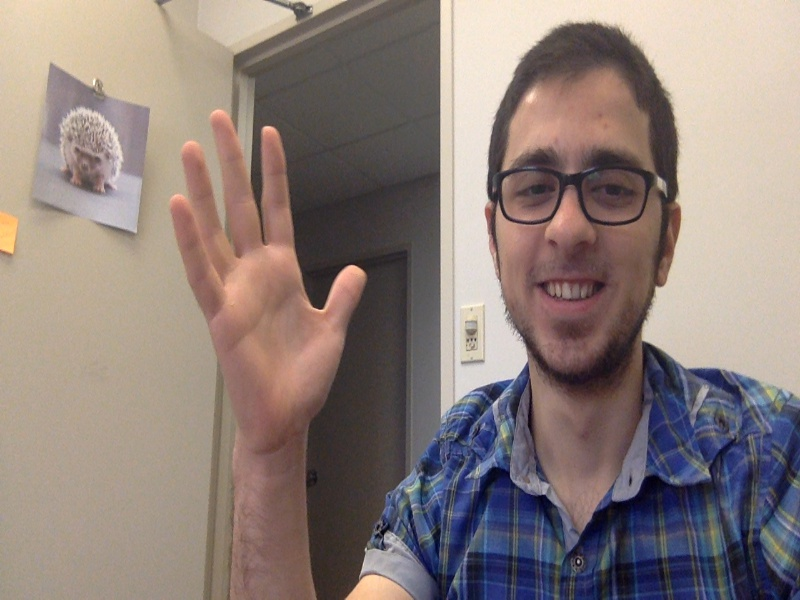5-hand: (171, 106, 369, 440)
